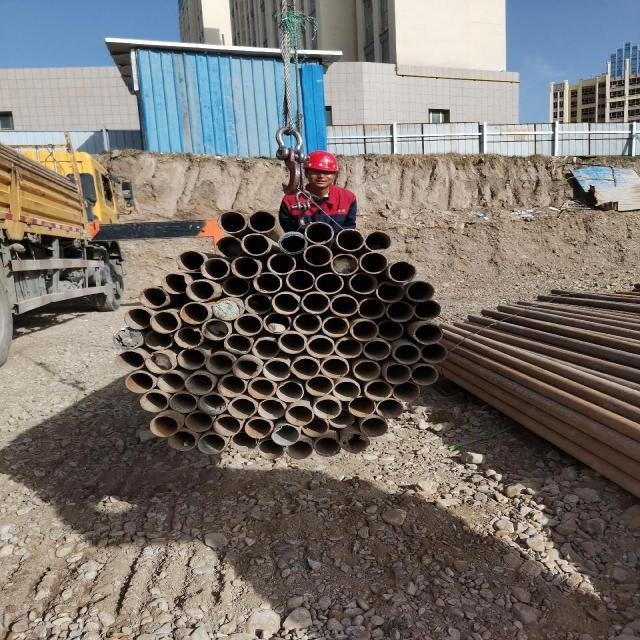pipe: (270, 288, 304, 316), (228, 256, 266, 280), (202, 351, 236, 377), (182, 370, 216, 396), (230, 354, 263, 380), (142, 348, 174, 374), (302, 220, 336, 244), (333, 227, 367, 251), (312, 270, 346, 294), (264, 251, 298, 275), (198, 256, 232, 280), (298, 290, 332, 314), (178, 300, 212, 324), (148, 310, 182, 334), (120, 306, 154, 330), (110, 326, 144, 350), (288, 356, 322, 380), (328, 378, 362, 402), (224, 396, 258, 420), (346, 394, 380, 418), (239, 232, 272, 256), (183, 278, 216, 302), (259, 358, 292, 382), (215, 374, 248, 398), (147, 414, 180, 438), (210, 414, 243, 438), (250, 271, 284, 294), (198, 318, 232, 341), (174, 346, 208, 369), (122, 371, 156, 394), (246, 376, 280, 399), (209, 298, 244, 320), (316, 356, 351, 378), (276, 231, 308, 255), (302, 243, 334, 267), (361, 229, 393, 253), (358, 251, 390, 275), (374, 280, 406, 304), (386, 300, 418, 324), (327, 292, 359, 316), (232, 313, 264, 337), (360, 338, 392, 362), (276, 330, 308, 354), (250, 336, 282, 360), (408, 362, 440, 386), (272, 379, 304, 403), (242, 416, 274, 440), (298, 414, 330, 438), (172, 326, 205, 349), (154, 371, 187, 394), (373, 396, 406, 419), (214, 235, 244, 260), (260, 312, 294, 334), (112, 349, 146, 371), (348, 318, 379, 342), (197, 392, 228, 416), (311, 396, 342, 420), (246, 210, 278, 233), (284, 269, 316, 292), (319, 315, 351, 338), (332, 336, 364, 359), (302, 374, 334, 397), (166, 391, 198, 414), (175, 250, 208, 272), (389, 342, 422, 364), (166, 430, 199, 452), (330, 252, 360, 276), (137, 285, 167, 309), (363, 378, 393, 402), (390, 379, 420, 403), (216, 210, 247, 233), (386, 260, 418, 282), (142, 329, 174, 351), (304, 336, 336, 358), (222, 332, 254, 354), (350, 360, 382, 382), (138, 390, 170, 412), (254, 398, 286, 420), (270, 424, 302, 446), (338, 432, 370, 454), (284, 439, 316, 461), (244, 292, 274, 315), (418, 341, 448, 364), (411, 322, 442, 344), (291, 312, 322, 334), (196, 432, 227, 454), (384, 361, 412, 385), (406, 280, 436, 302), (346, 272, 376, 294), (220, 276, 250, 298), (160, 272, 190, 294), (356, 298, 386, 320), (284, 404, 314, 426), (183, 410, 213, 432), (358, 416, 388, 438), (312, 435, 342, 457), (255, 438, 285, 460), (324, 408, 356, 428), (413, 298, 441, 320), (376, 320, 404, 342), (228, 432, 258, 452)
